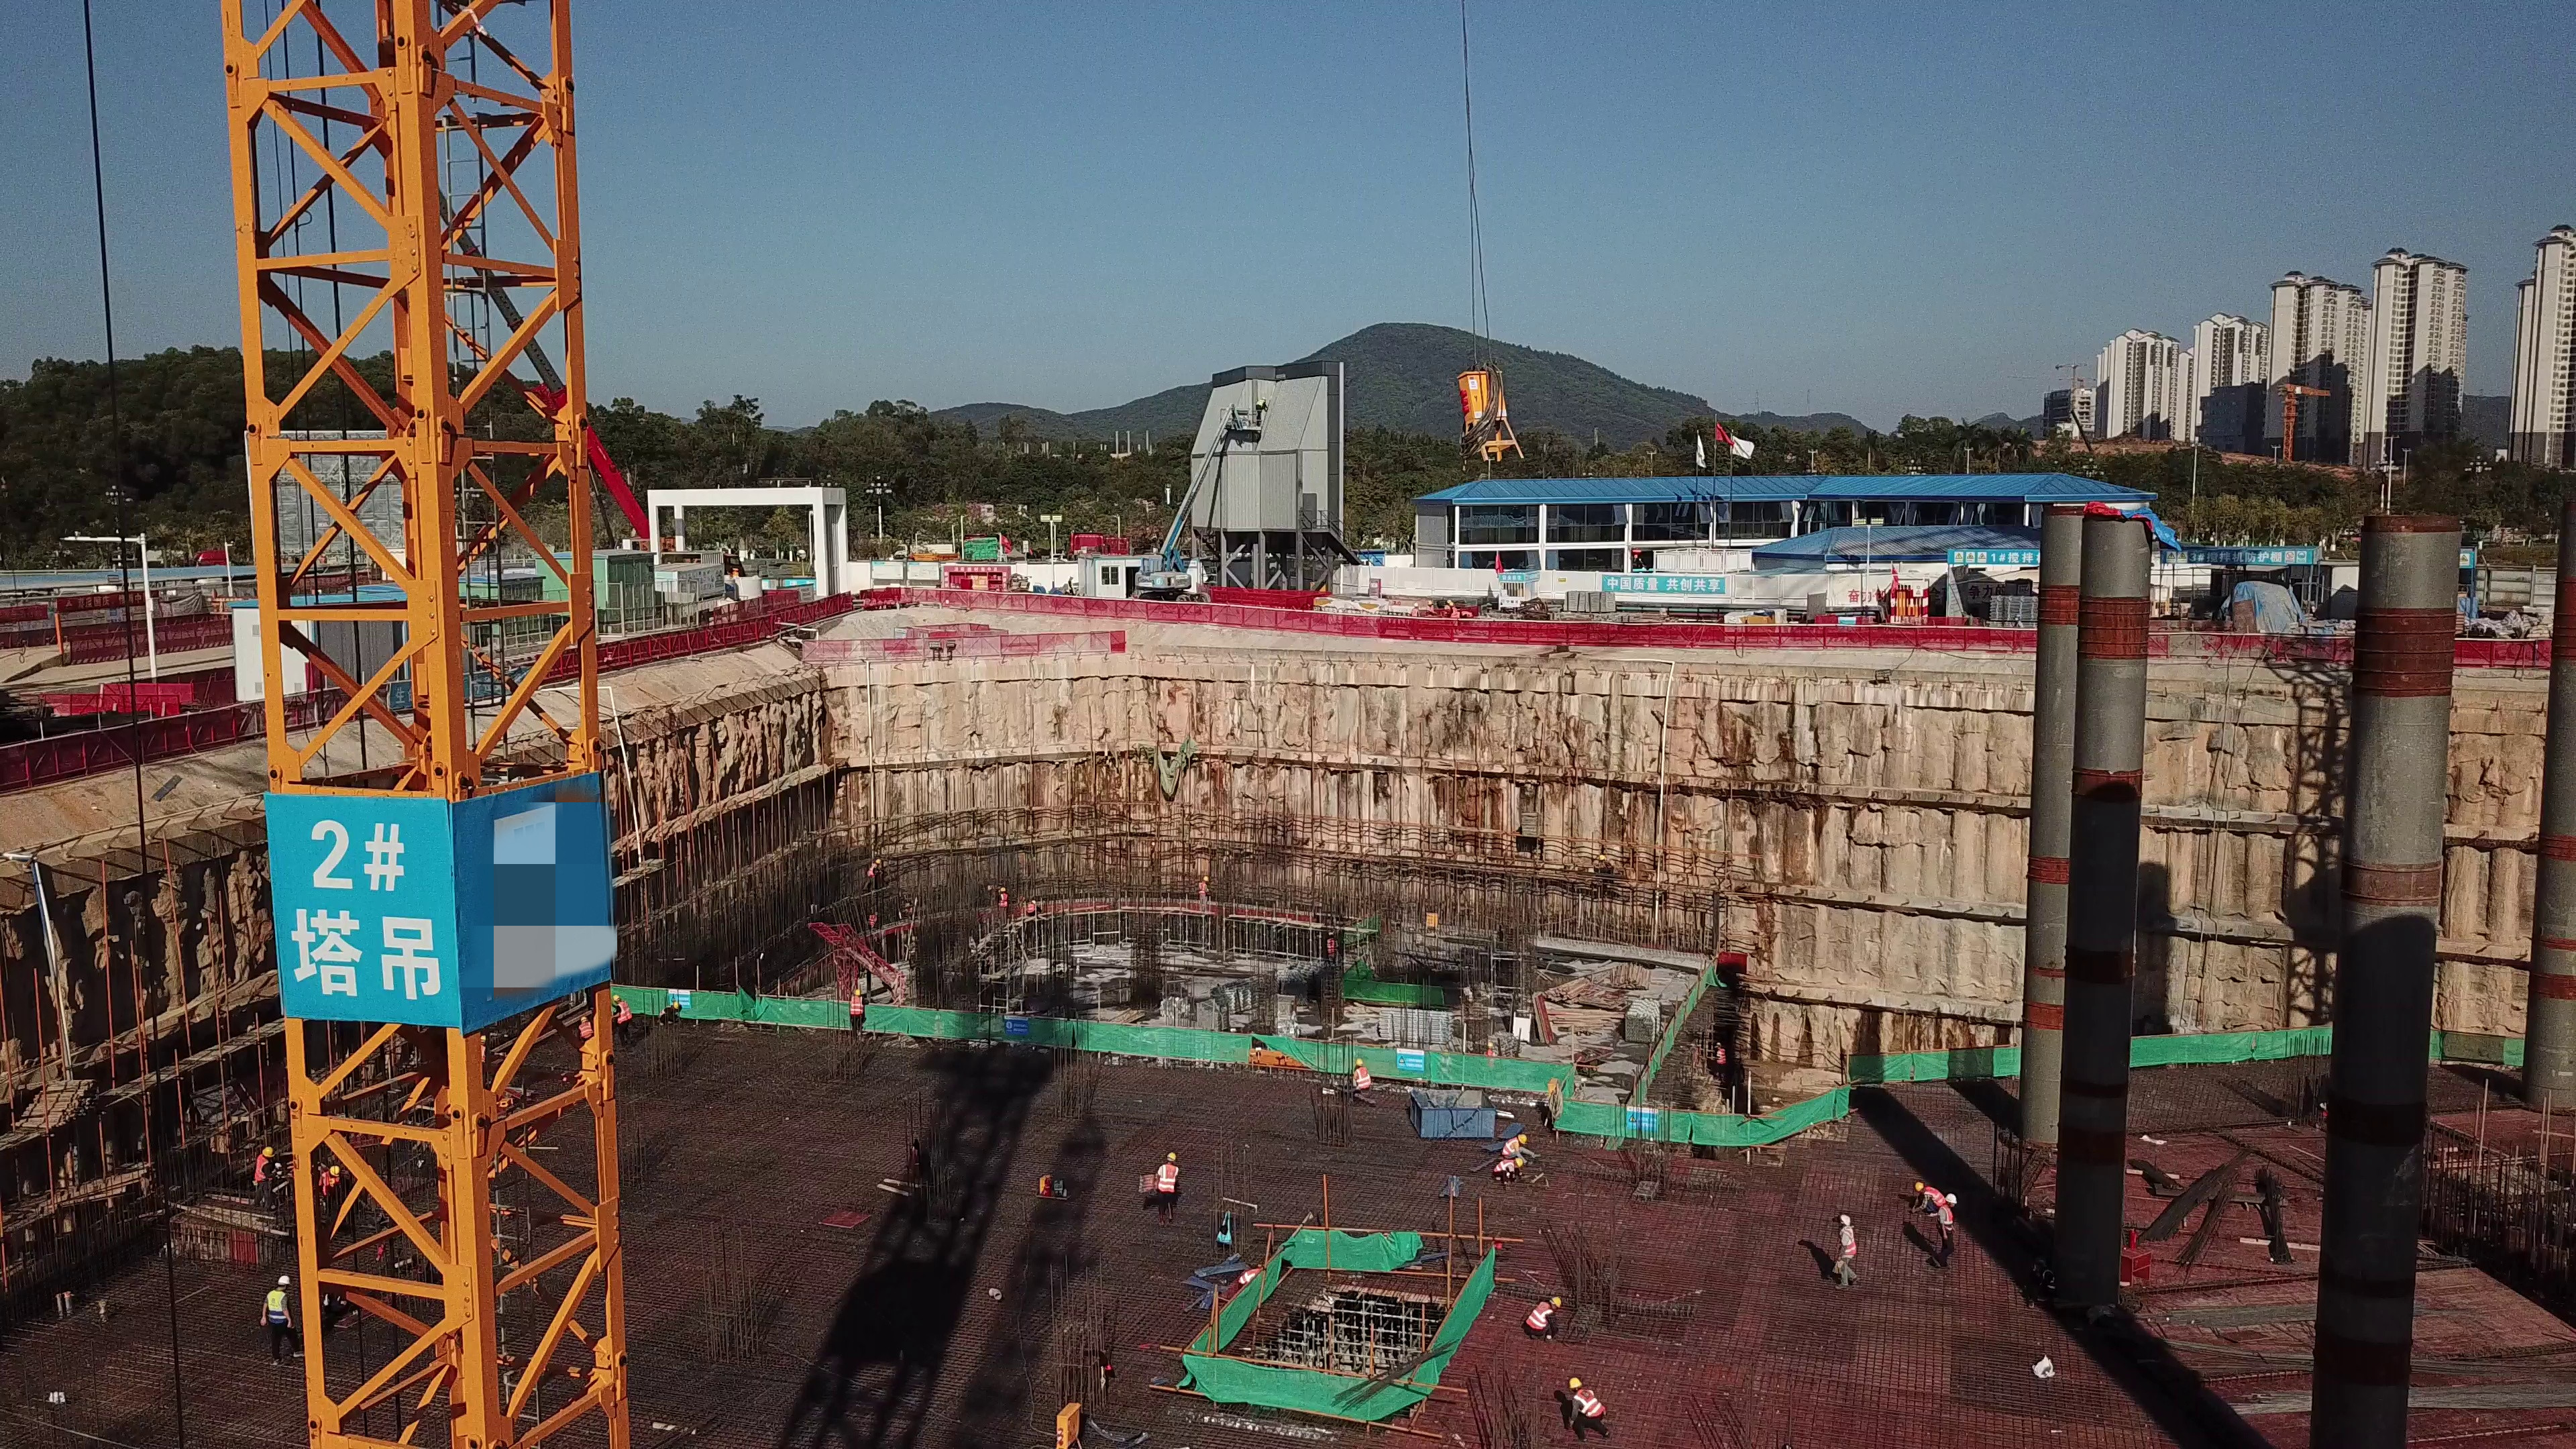brick: (1567, 587, 1614, 614)
ebox: (1049, 1400, 1091, 1449)
fence: (1335, 620, 1742, 655), (609, 603, 861, 648)
helmet: (1566, 1378, 1587, 1392), (1837, 1214, 1854, 1230), (260, 1144, 276, 1156), (1551, 1293, 1562, 1309), (1517, 1133, 1529, 1146), (1513, 1159, 1525, 1169), (1354, 1058, 1365, 1069), (276, 1275, 290, 1285), (329, 1165, 343, 1175), (1913, 1181, 1923, 1192), (1942, 1193, 1955, 1203), (1484, 1040, 1497, 1049), (1165, 1152, 1177, 1161), (610, 991, 620, 1002), (673, 1002, 679, 1012), (853, 987, 861, 996), (1716, 1039, 1723, 1046), (578, 1016, 588, 1020)
hopper: (1460, 354, 1521, 472), (1407, 1081, 1497, 1141)
person: (259, 1273, 303, 1371), (1557, 1376, 1625, 1438), (1825, 1210, 1868, 1303), (1518, 1285, 1568, 1342), (1149, 1149, 1185, 1212), (250, 1147, 276, 1218), (1935, 1190, 1958, 1266), (315, 1161, 350, 1204), (607, 994, 641, 1038), (1347, 1059, 1381, 1099), (1590, 851, 1615, 900), (843, 989, 869, 1036), (1911, 1181, 1939, 1220), (863, 857, 889, 895), (1493, 1158, 1527, 1185), (1501, 1133, 1536, 1158), (1322, 930, 1346, 962), (1711, 1040, 1730, 1080), (568, 1014, 594, 1041), (1196, 875, 1212, 912), (996, 884, 1008, 929), (1024, 898, 1044, 922), (1422, 594, 1438, 621), (900, 900, 918, 920), (1410, 602, 1421, 641), (867, 909, 881, 935), (1483, 1041, 1501, 1055)
scaffold: (1379, 1001, 1454, 1061), (1207, 971, 1299, 1016), (1625, 984, 1669, 1046)
slogan: (274, 794, 449, 1020), (2166, 550, 2316, 570), (1601, 574, 1726, 594), (1951, 542, 2049, 563)
vest: (265, 1291, 294, 1325), (1574, 1389, 1606, 1413), (1527, 1304, 1552, 1332), (1838, 1232, 1858, 1262), (1159, 1165, 1177, 1195), (253, 1159, 270, 1183), (847, 996, 864, 1022), (320, 1175, 340, 1193), (1354, 1066, 1372, 1088), (1925, 1187, 1941, 1210), (578, 1023, 596, 1040), (1495, 1161, 1515, 1174), (1502, 1136, 1517, 1155), (1941, 1210, 1952, 1234), (619, 1003, 631, 1023), (655, 1007, 669, 1021), (1715, 1049, 1727, 1062)
wood: (1554, 964, 1620, 1034)
